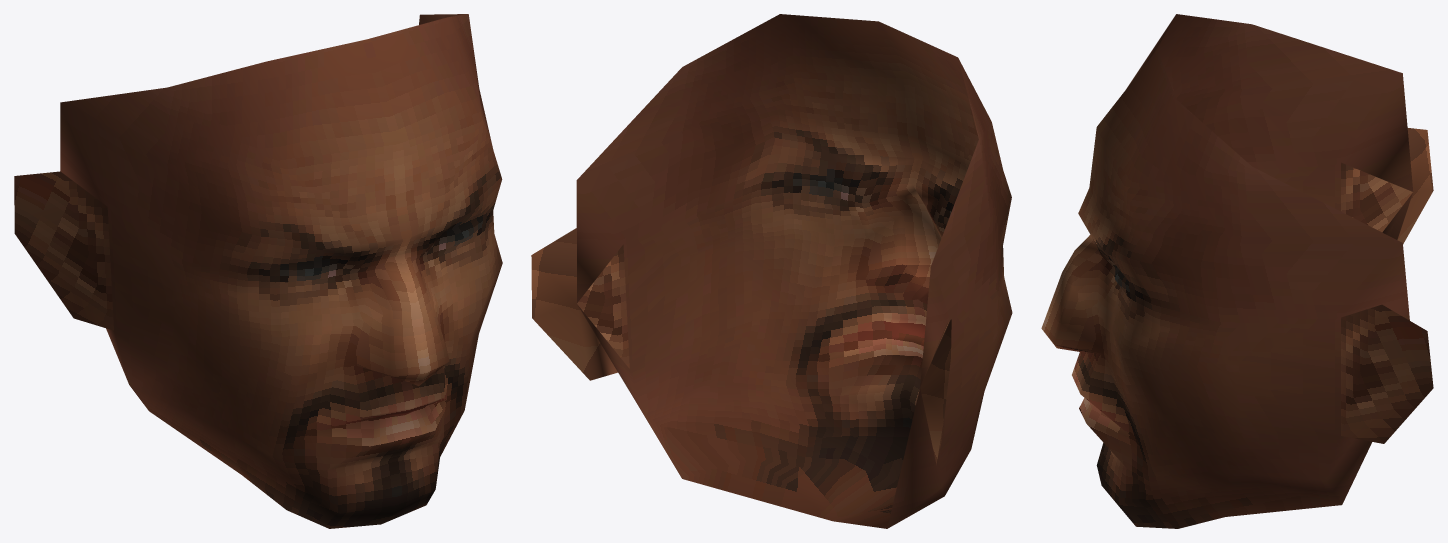
3 views of the same model, side by side, from view 1: azimuth 30°, elevation 25°; view 2: azimuth 150°, elevation 25°; view 3: azimuth 270°, elevation 25° (orthographic). The views are drawn at different scales.
Parts seen in each view (by area): view 1: editpl_m-0000-138, editpl_m-0000-137; view 2: editpl_m-0000-138, editpl_m-0000-137; view 3: editpl_m-0000-138, editpl_m-0000-137.
Part boxes in pixels (bbox=[...]): editpl_m-0000-138: bbox=[14, 14, 502, 418]; editpl_m-0000-137: bbox=[106, 328, 478, 528]; editpl_m-0000-138: bbox=[531, 14, 1012, 464]; editpl_m-0000-137: bbox=[578, 275, 984, 528]; editpl_m-0000-138: bbox=[1041, 14, 1433, 443]; editpl_m-0000-137: bbox=[1072, 193, 1412, 528].
Size of the model in its own units: 17.51 by 18.64 by 14.43.
Materials: 1 (1 with a texture image).
